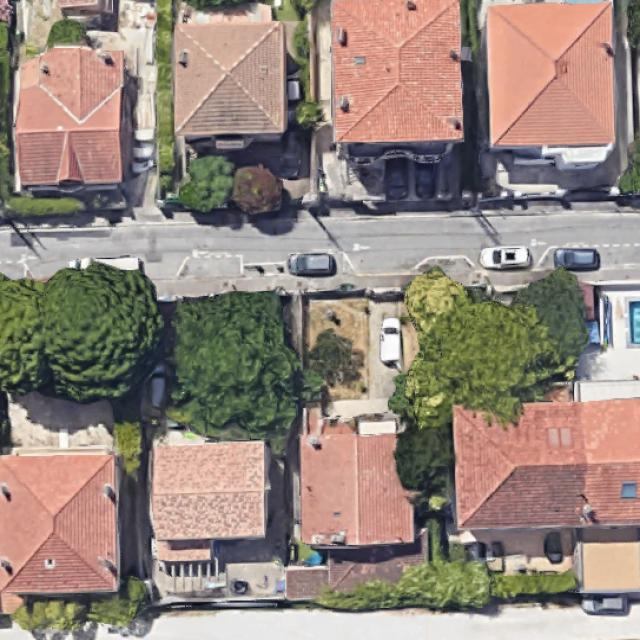maison: (454, 400, 639, 597), (331, 0, 460, 168), (0, 447, 121, 618), (488, 2, 615, 146), (15, 47, 123, 185), (173, 21, 287, 143), (300, 431, 413, 547), (153, 441, 268, 536)
